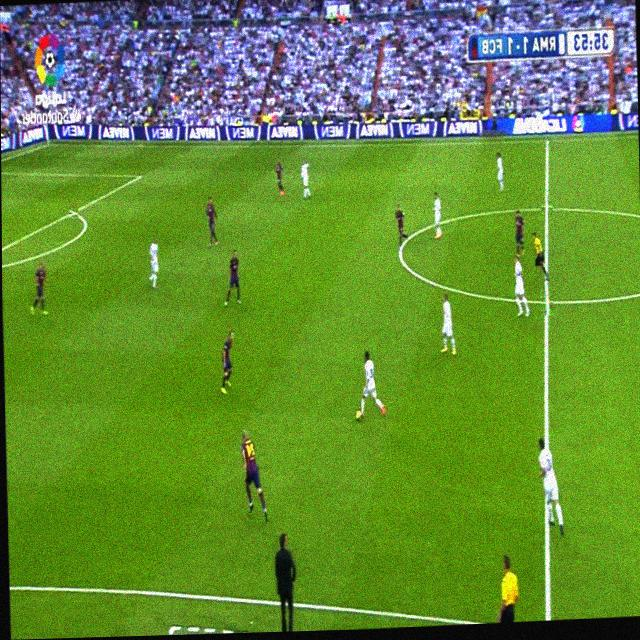halfcircle_bottom: (540, 287, 552, 315)
halfcircle_top: (541, 195, 552, 220)
midline_bottom_intersection: (539, 609, 556, 620)
midline_top_intersection: (542, 134, 550, 148)
top_arc_area_intersection: (69, 203, 78, 220)
